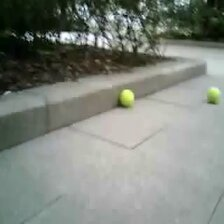tennis: (206, 85, 221, 102), (120, 88, 134, 105)
